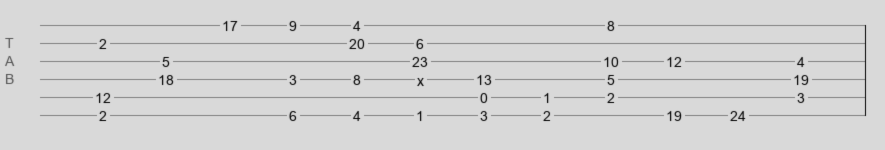0: (480, 90, 488, 100)
1: (416, 108, 424, 118), (543, 90, 551, 100)
10: (603, 54, 619, 64)
12: (95, 90, 111, 100), (666, 54, 682, 64)
13: (476, 72, 492, 82)
17: (222, 18, 238, 28)
18: (158, 72, 174, 82)
19: (666, 108, 682, 118), (793, 72, 809, 82)
2: (99, 108, 107, 118), (99, 36, 107, 46), (543, 108, 551, 118), (607, 90, 615, 100)
20: (349, 36, 365, 46)
23: (412, 54, 428, 64)
24: (730, 108, 746, 118)
3: (289, 72, 297, 82), (480, 108, 488, 118), (797, 90, 805, 100)
4: (353, 18, 361, 28), (353, 108, 361, 118), (797, 54, 805, 64)
5: (162, 54, 170, 64), (607, 72, 615, 82)
6: (289, 108, 297, 118), (416, 36, 424, 46)
8: (353, 72, 361, 82), (607, 18, 615, 28)
9: (289, 18, 297, 28)
x: (417, 73, 424, 81)
